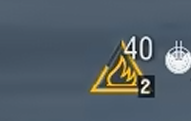2fire: (87, 63, 155, 99)
